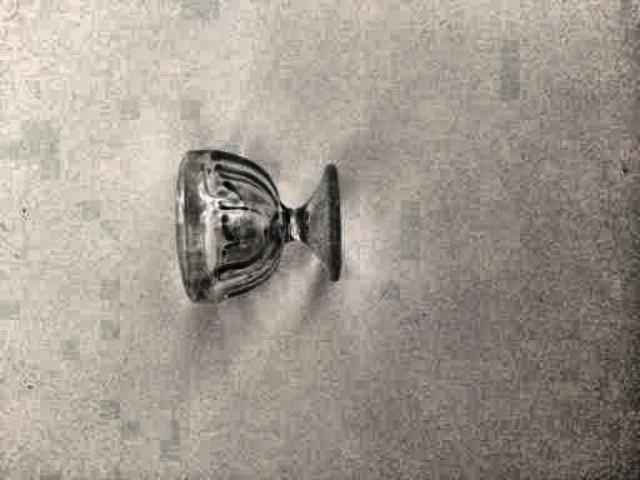Almennt: (160, 124, 370, 341)
